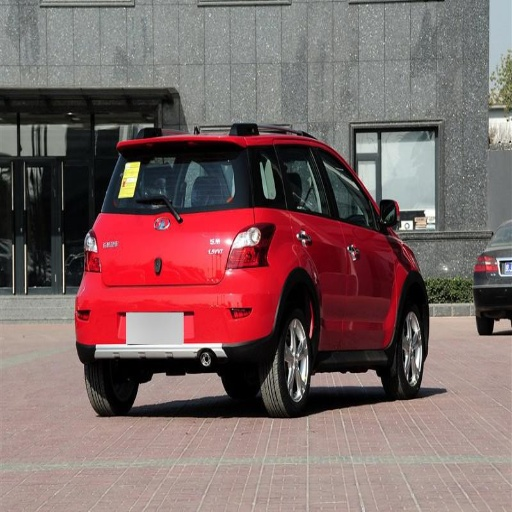back_bumper: (76, 267, 284, 358)
back_right_door: (273, 145, 356, 347)
trunk: (87, 215, 249, 309)
